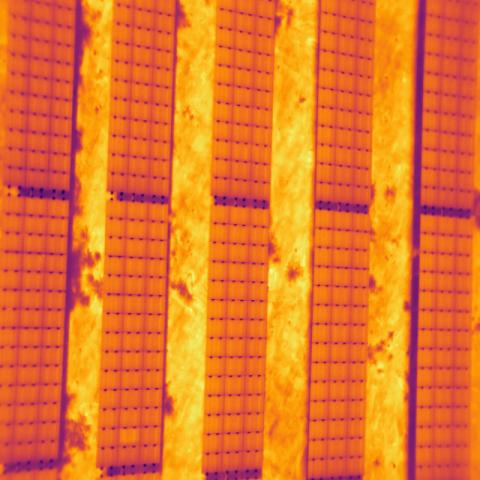fault: (119, 428, 139, 445)
